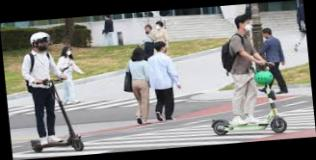helmet: (17, 28, 88, 157)
nonhelmet: (199, 9, 289, 138)
